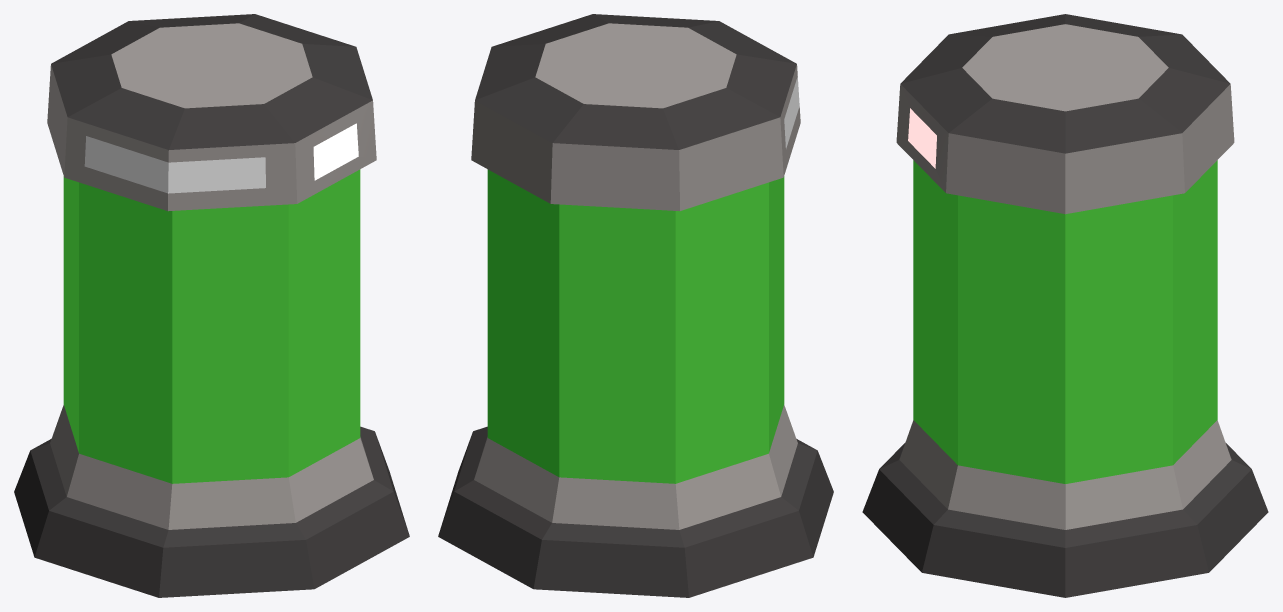
Rendered from scifi_scifi-tube-specimen-small-crystal.fbx.
3 renders of one model, left to right at view 1: azimuth 30°, elevation 25°; view 2: azimuth 150°, elevation 25°; view 3: azimuth 270°, elevation 25°, orthographic.
Parts seen in each view (by area): view 1: scifi_scifi_tube_specimen_small_crystal; view 2: scifi_scifi_tube_specimen_small_crystal; view 3: scifi_scifi_tube_specimen_small_crystal.
Boxes of the visible parts, bbox=[...] form: scifi_scifi_tube_specimen_small_crystal: bbox=[14, 14, 409, 597]; scifi_scifi_tube_specimen_small_crystal: bbox=[438, 14, 833, 597]; scifi_scifi_tube_specimen_small_crystal: bbox=[862, 14, 1268, 597].
Size of the model in its own units: 166 by 200 by 166.
